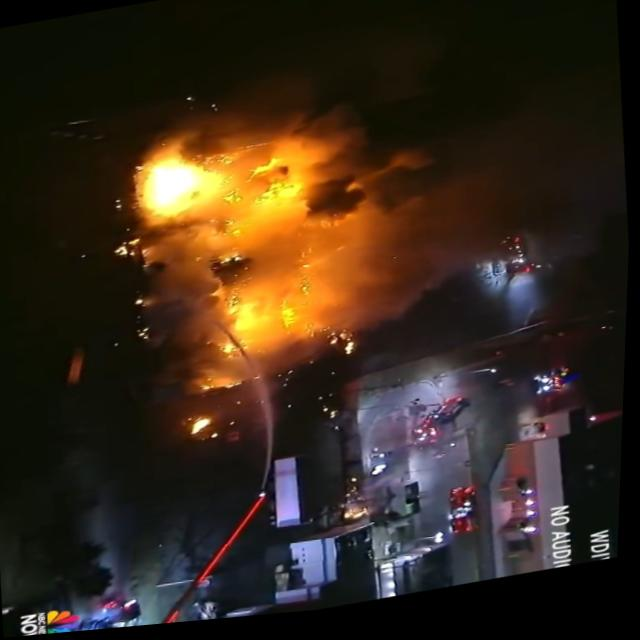Fire: (120, 104, 444, 363), (593, 419, 626, 435)
